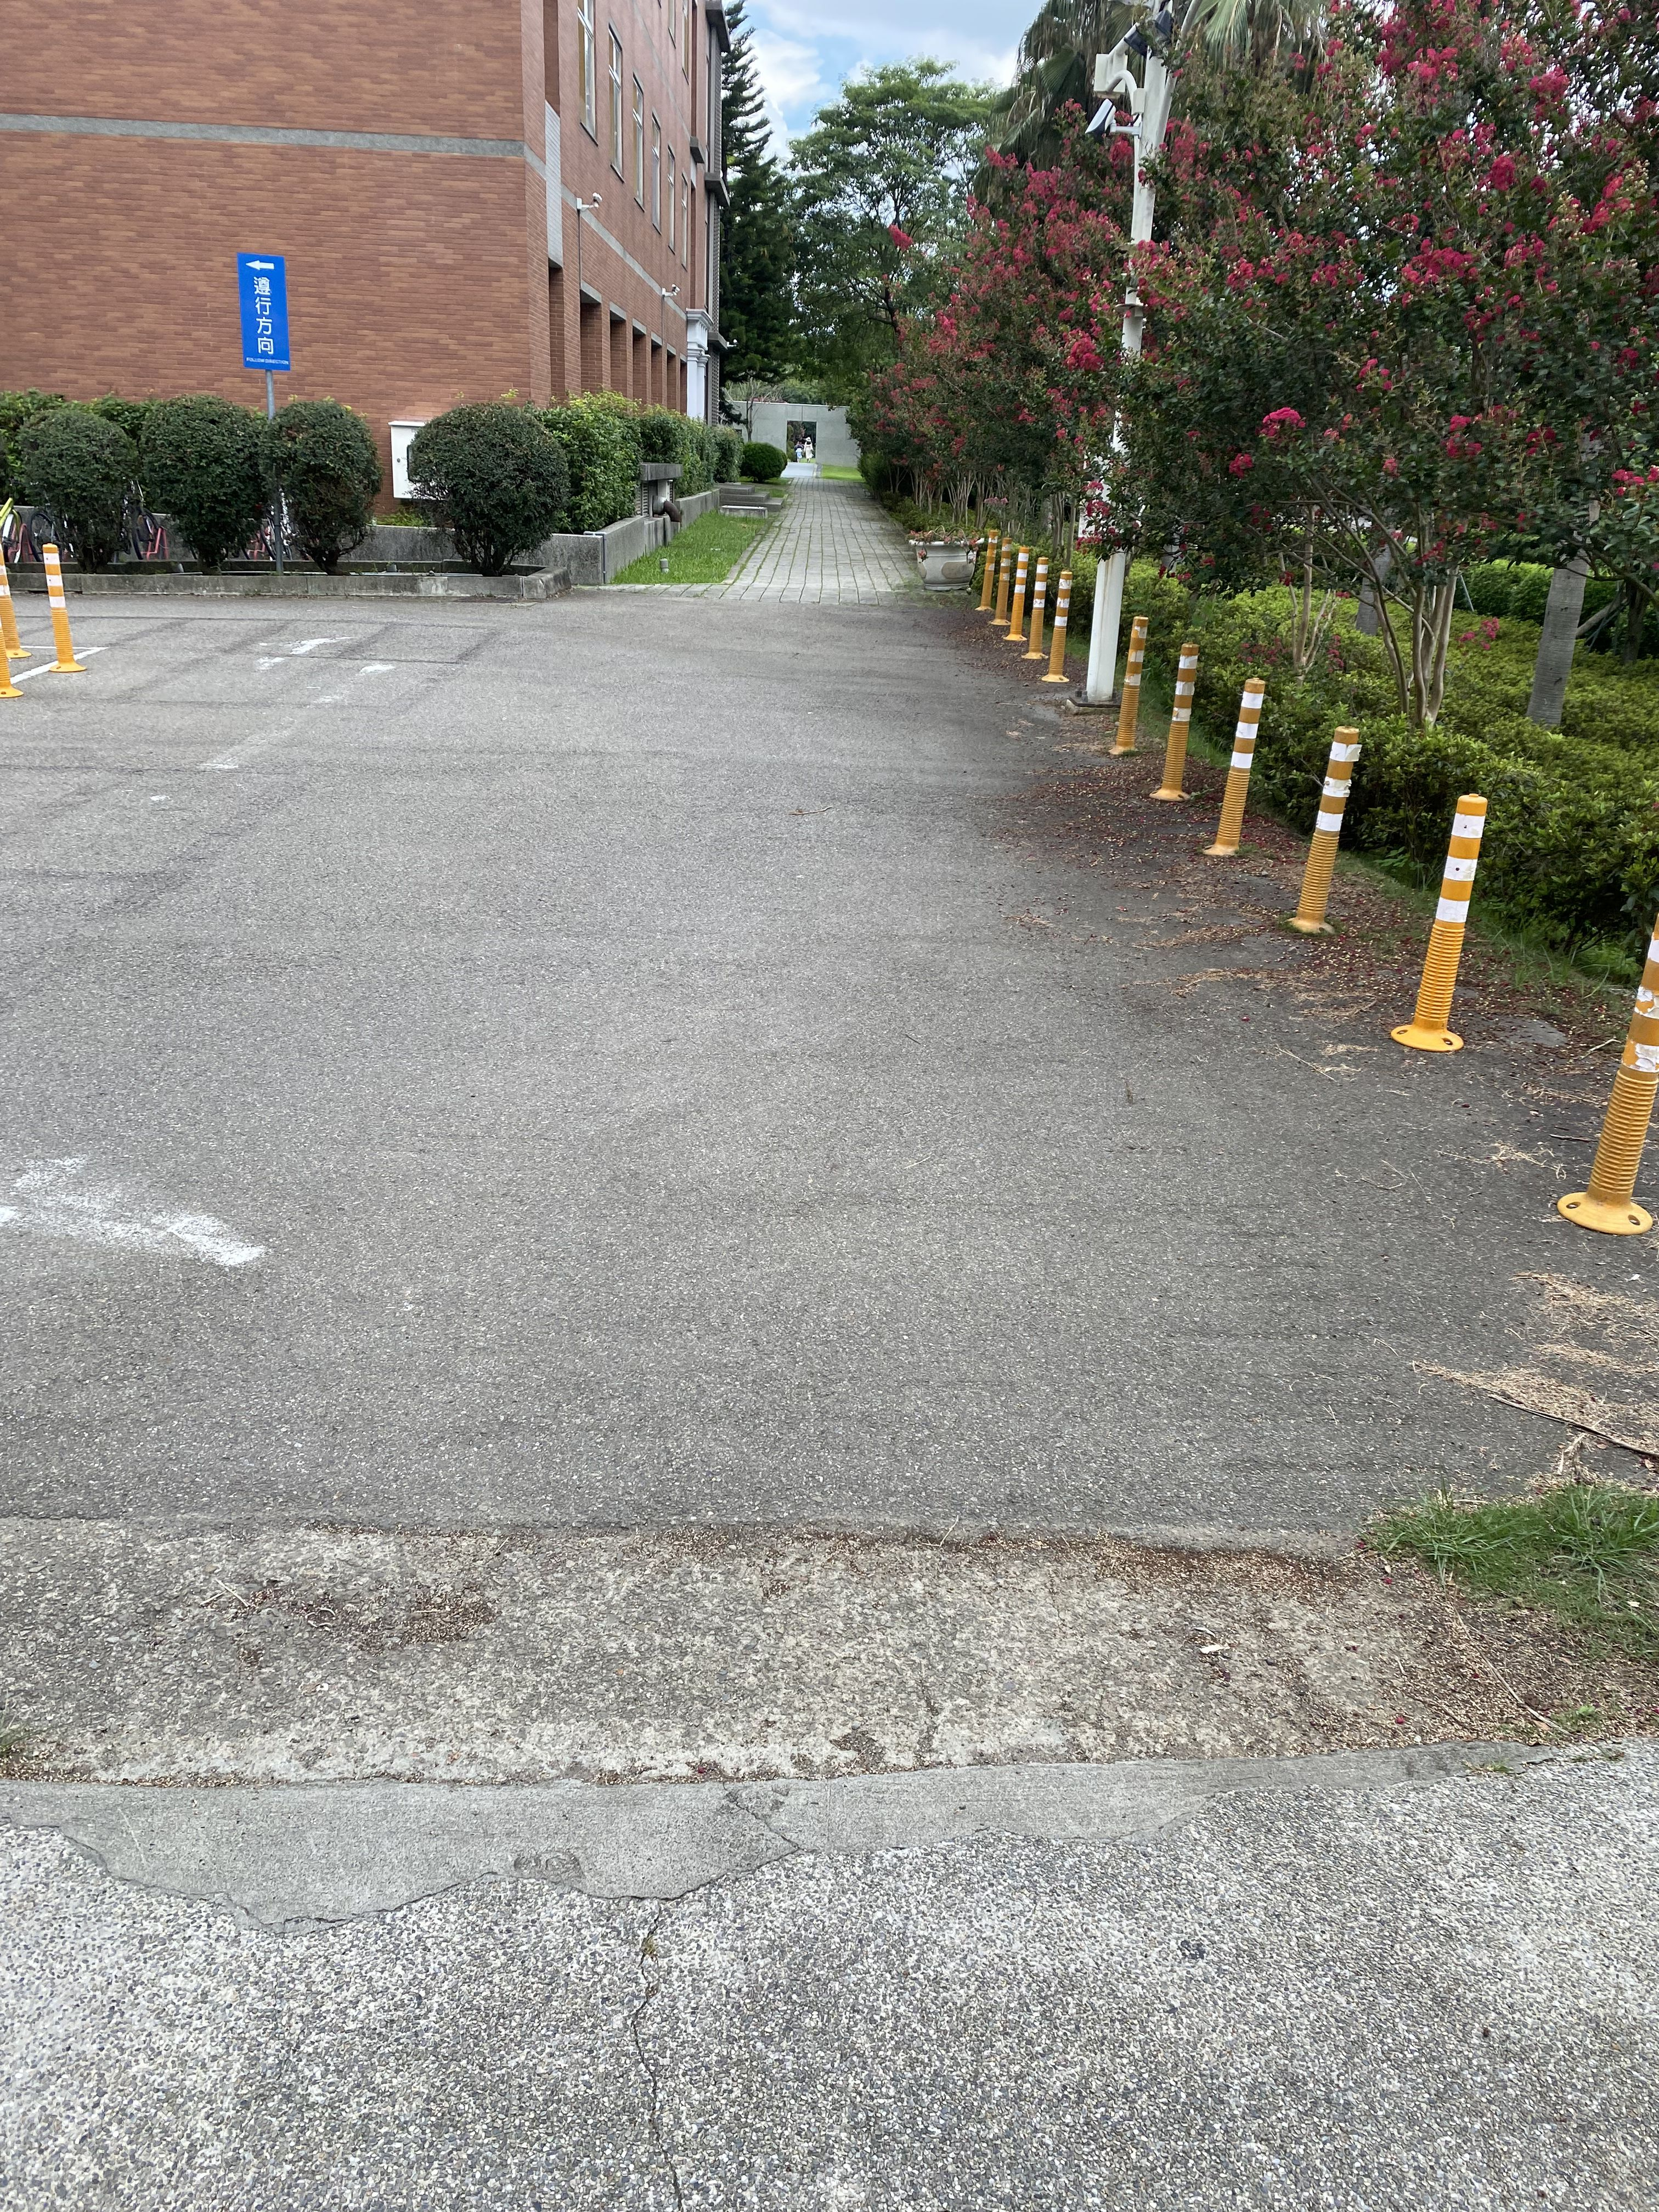0: (143, 590, 1659, 2212)
sidewalk: (706, 437, 964, 683)
